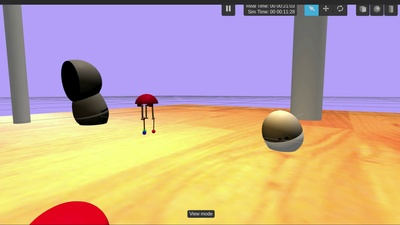mira_robot: (262, 109, 304, 152)
